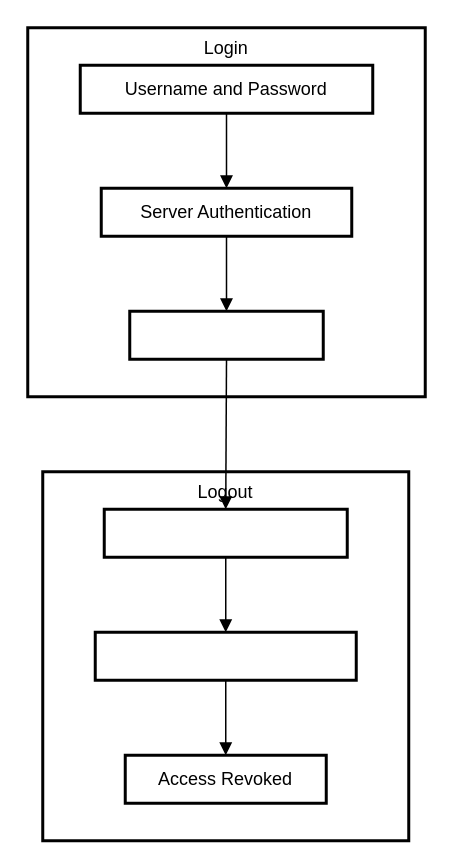
This 452x867 diagram has some shape labels left out. Here are the shapes that lost their labels. From the top down, the centre of each, then its label:
(226,334): Access Granted
(225,532): User Initiates Logout
(225,655): Server Clears Session
